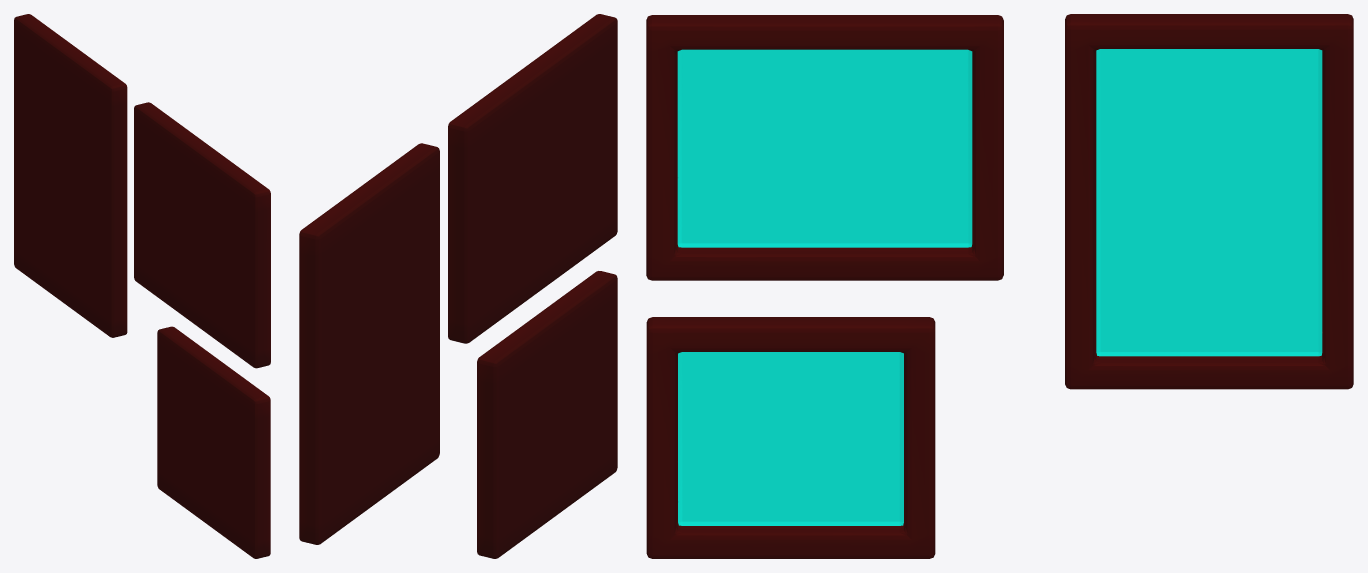
File: frame.glb
3 renders of one model, left to right at view 1: azimuth 30°, elevation 25°; view 2: azimuth 150°, elevation 25°; view 3: azimuth 270°, elevation 25°, orthographic. The views are drawn at different scales.
Visible parts, largest first — view 1: room2_frame; view 2: room2_frame; view 3: room2_frame.
Part boxes in pixels (box(x1,y1,x2,y2)): room2_frame: box(14, 14, 270, 558); room2_frame: box(299, 14, 617, 558); room2_frame: box(646, 14, 1353, 558).
Size of the model in its own units: 0.1843 by 3.75 by 4.48.
Materials: 1 (1 with a texture image).
